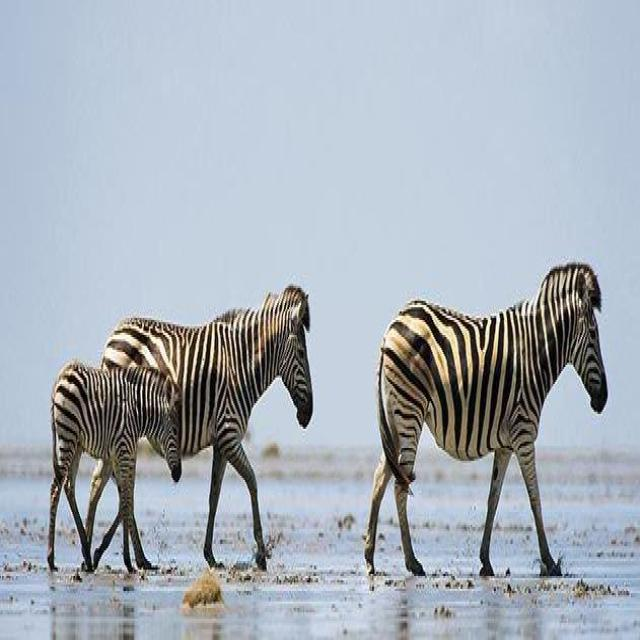Zebra: (364, 250, 613, 593), (89, 242, 321, 605), (36, 321, 185, 571)
